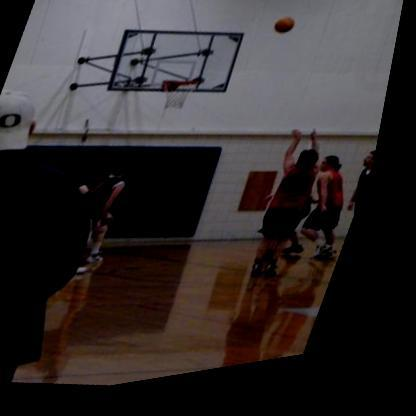basketball: (273, 22, 301, 47)
rim: (165, 80, 205, 99)
